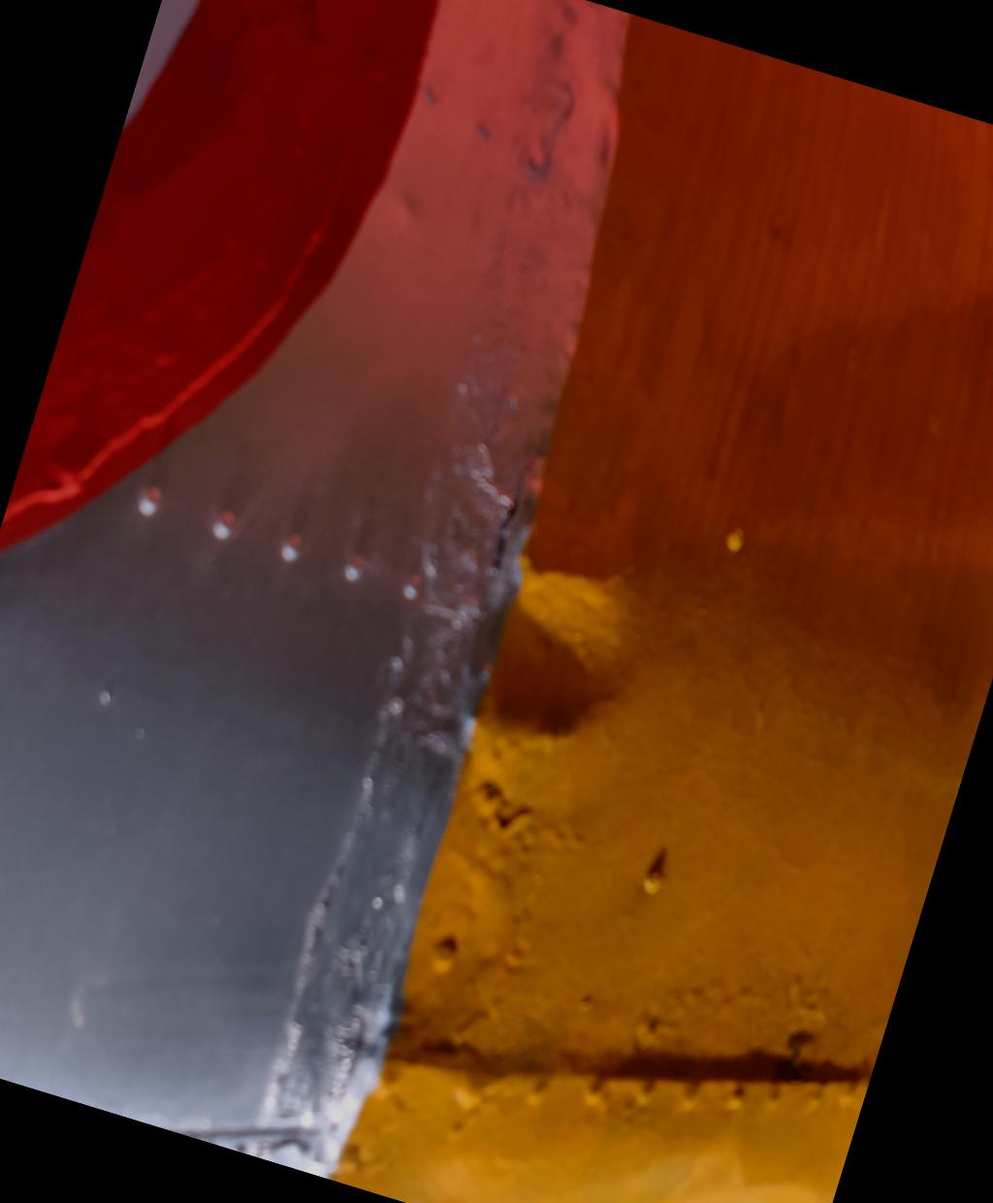dent: (373, 466, 705, 825)
